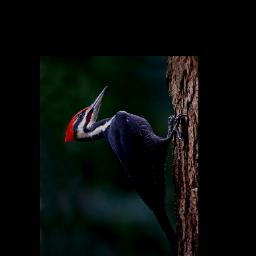Woodpecker: (65, 86, 189, 256)
